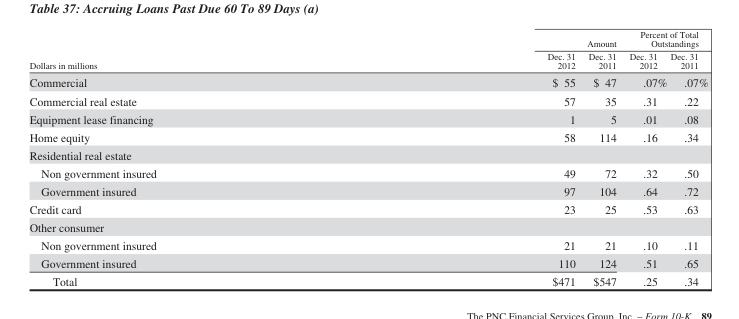table: (28, 29, 707, 287)
table column: (28, 29, 351, 287), (351, 29, 581, 287), (622, 29, 668, 287), (581, 29, 622, 287), (668, 29, 707, 287)
table column header: (28, 29, 707, 73)
table projected row header: (28, 145, 707, 163), (28, 218, 707, 236)
table row: (28, 49, 707, 73), (28, 29, 707, 49), (28, 181, 707, 200), (28, 73, 707, 91), (28, 91, 707, 109), (28, 109, 707, 127), (28, 127, 707, 145), (28, 145, 707, 163), (28, 163, 707, 181), (28, 200, 707, 218), (28, 218, 707, 236), (28, 236, 707, 254), (28, 254, 707, 272), (28, 272, 707, 287)
table spanning cell: (28, 29, 351, 73), (351, 29, 622, 49), (622, 29, 707, 49)
